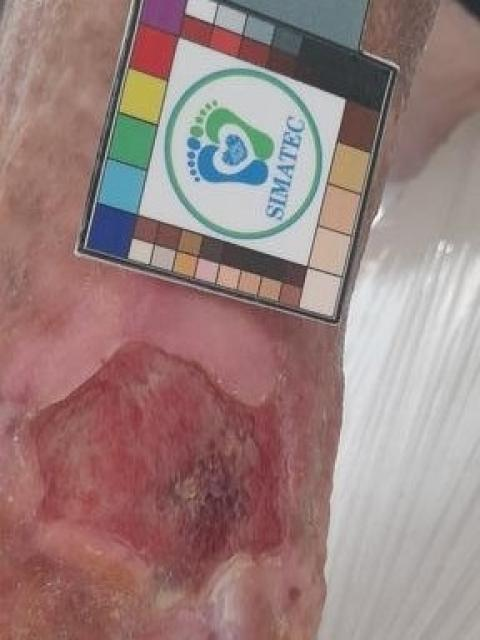wound: (18, 311, 342, 598)
